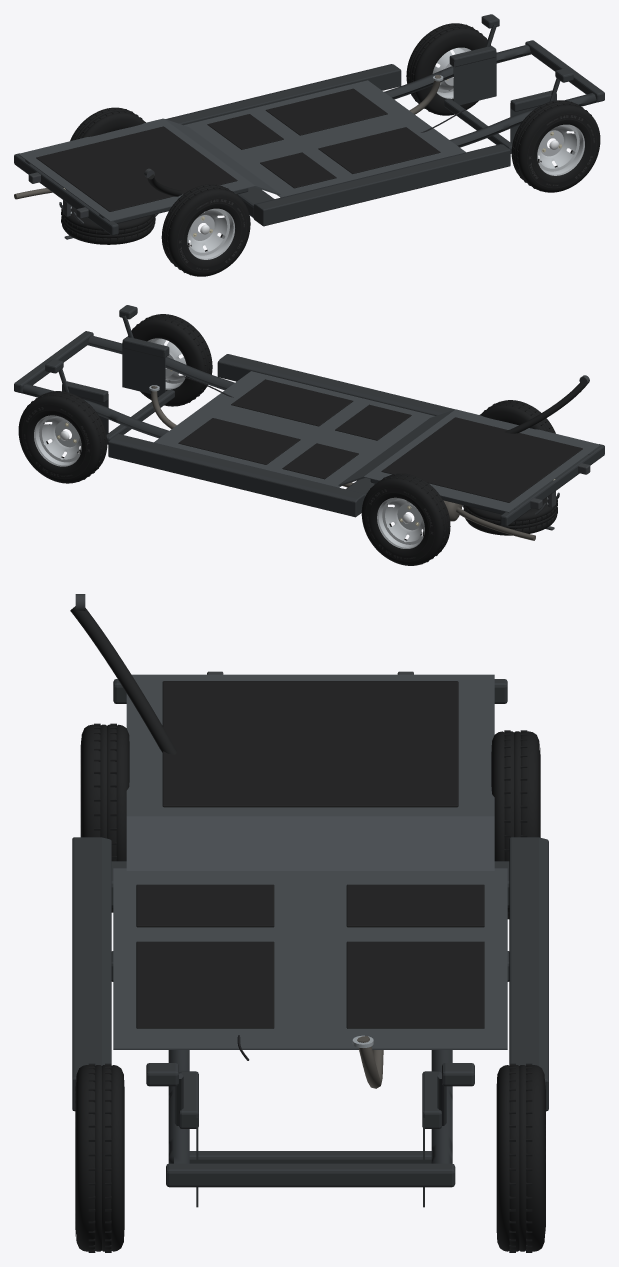
Rendered from chassis.glb.
3 views of the same model, one above another, from view 1: azimuth 30°, elevation 25°; view 2: azimuth 150°, elevation 25°; view 3: azimuth 270°, elevation 25° (orthographic). The views are drawn at different scales.
Visible parts, largest first — view 1: plateforme.tole-plateforme, plateforme.tapis, plateforme.tole-plancher, roues.pneu, roues.pneu.002, roues.pneu.001, roue-secours.pneu, roues.jante, roues.jante.002, roues.flanc-pneu, roues.flanc-pneu.002, roues.pneu.003 (+3 smaller); view 2: plateforme.tole-plateforme, plateforme.tapis, plateforme.tole-plancher, roues.pneu.001, roues.pneu.003, roues.pneu, roues.jante.001, roues.jante.003, roue-secours.pneu, roues.flanc-pneu.003, roues.flanc-pneu.001, roues.pneu.002 (+4 smaller); view 3: plateforme.tapis, plateforme.tole-plancher, plateforme.tole-plateforme, roues.pneu.001, roues.pneu, roues.pneu.002, roues.pneu.003, reservoir.caoutchouc.
Boxes of the visible parts, x1,y1,x2,y2 form: plateforme.tole-plateforme: (14,14,604,235); plateforme.tapis: (36,88,440,211); plateforme.tole-plancher: (18,80,465,221); roues.pneu: (511,100,600,192); roues.pneu.002: (161,184,250,276); roues.pneu.001: (406,23,491,115); roue-secours.pneu: (61,205,154,244); roues.jante: (537,124,584,175); roues.jante.002: (187,208,234,259); roues.flanc-pneu: (527,113,596,188); roues.flanc-pneu.002: (177,197,246,272); roues.pneu.003: (70,107,145,140); plateforme.tole-plateforme: (14,305,604,526); plateforme.tapis: (178,379,582,502); plateforme.tole-plancher: (154,371,600,512); roues.pneu.001: (18,391,107,483); roues.pneu.003: (361,473,450,565); roues.pneu: (128,314,212,406); roues.jante.001: (34,415,81,466); roues.jante.003: (377,497,424,548); roue-secours.pneu: (464,496,557,535); roues.flanc-pneu.003: (365,486,434,561); roues.flanc-pneu.001: (22,404,91,479); roues.pneu.002: (480,400,555,433); plateforme.tapis: (136,681,484,1028); plateforme.tole-plancher: (113,674,507,1049); plateforme.tole-plateforme: (72,679,548,1207); roues.pneu.001: (496,1065,545,1251); roues.pneu: (76,1065,124,1251); roues.pneu.002: (81,724,129,911); roues.pneu.003: (491,731,539,918); reservoir.caoutchouc: (70,606,177,754).
Bounding box in the file's own units: 3.65 × 0.8298 × 1.46.
17 materials, 1 textured.
